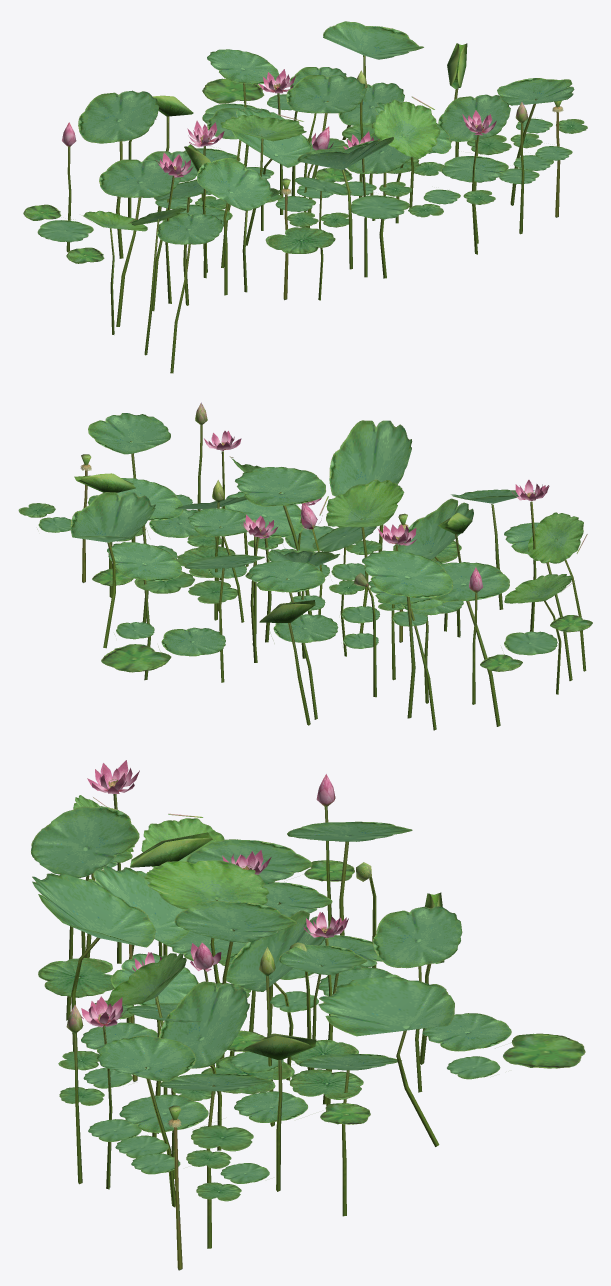
Rendered from ss_hehua_1.FBX.
3 views of the same model, one above another, from view 1: azimuth 30°, elevation 25°; view 2: azimuth 150°, elevation 25°; view 3: azimuth 270°, elevation 25° (orthographic). The views are drawn at different scales.
Parts seen in each view (by area): view 1: ss_hehua_1; view 2: ss_hehua_1; view 3: ss_hehua_1.
Boxes of the visible parts, <box> form: ss_hehua_1: <box>23,21,587,373</box>; ss_hehua_1: <box>18,402,592,730</box>; ss_hehua_1: <box>31,760,585,1270</box>.
Size of the model in its own units: 59962 by 21619 by 41882.
